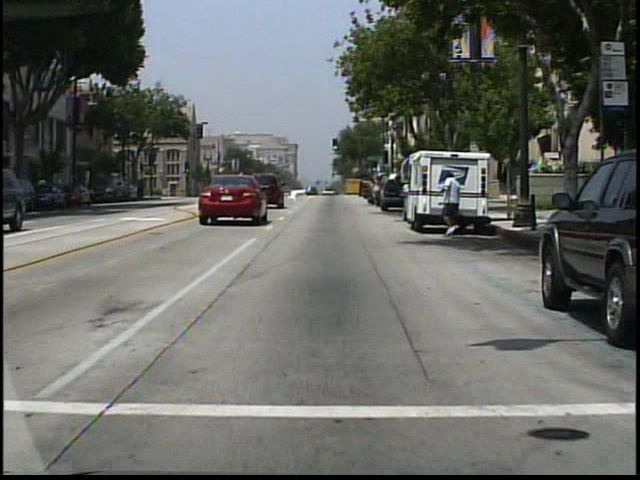person: (436, 170, 468, 239), (376, 173, 377, 210)
